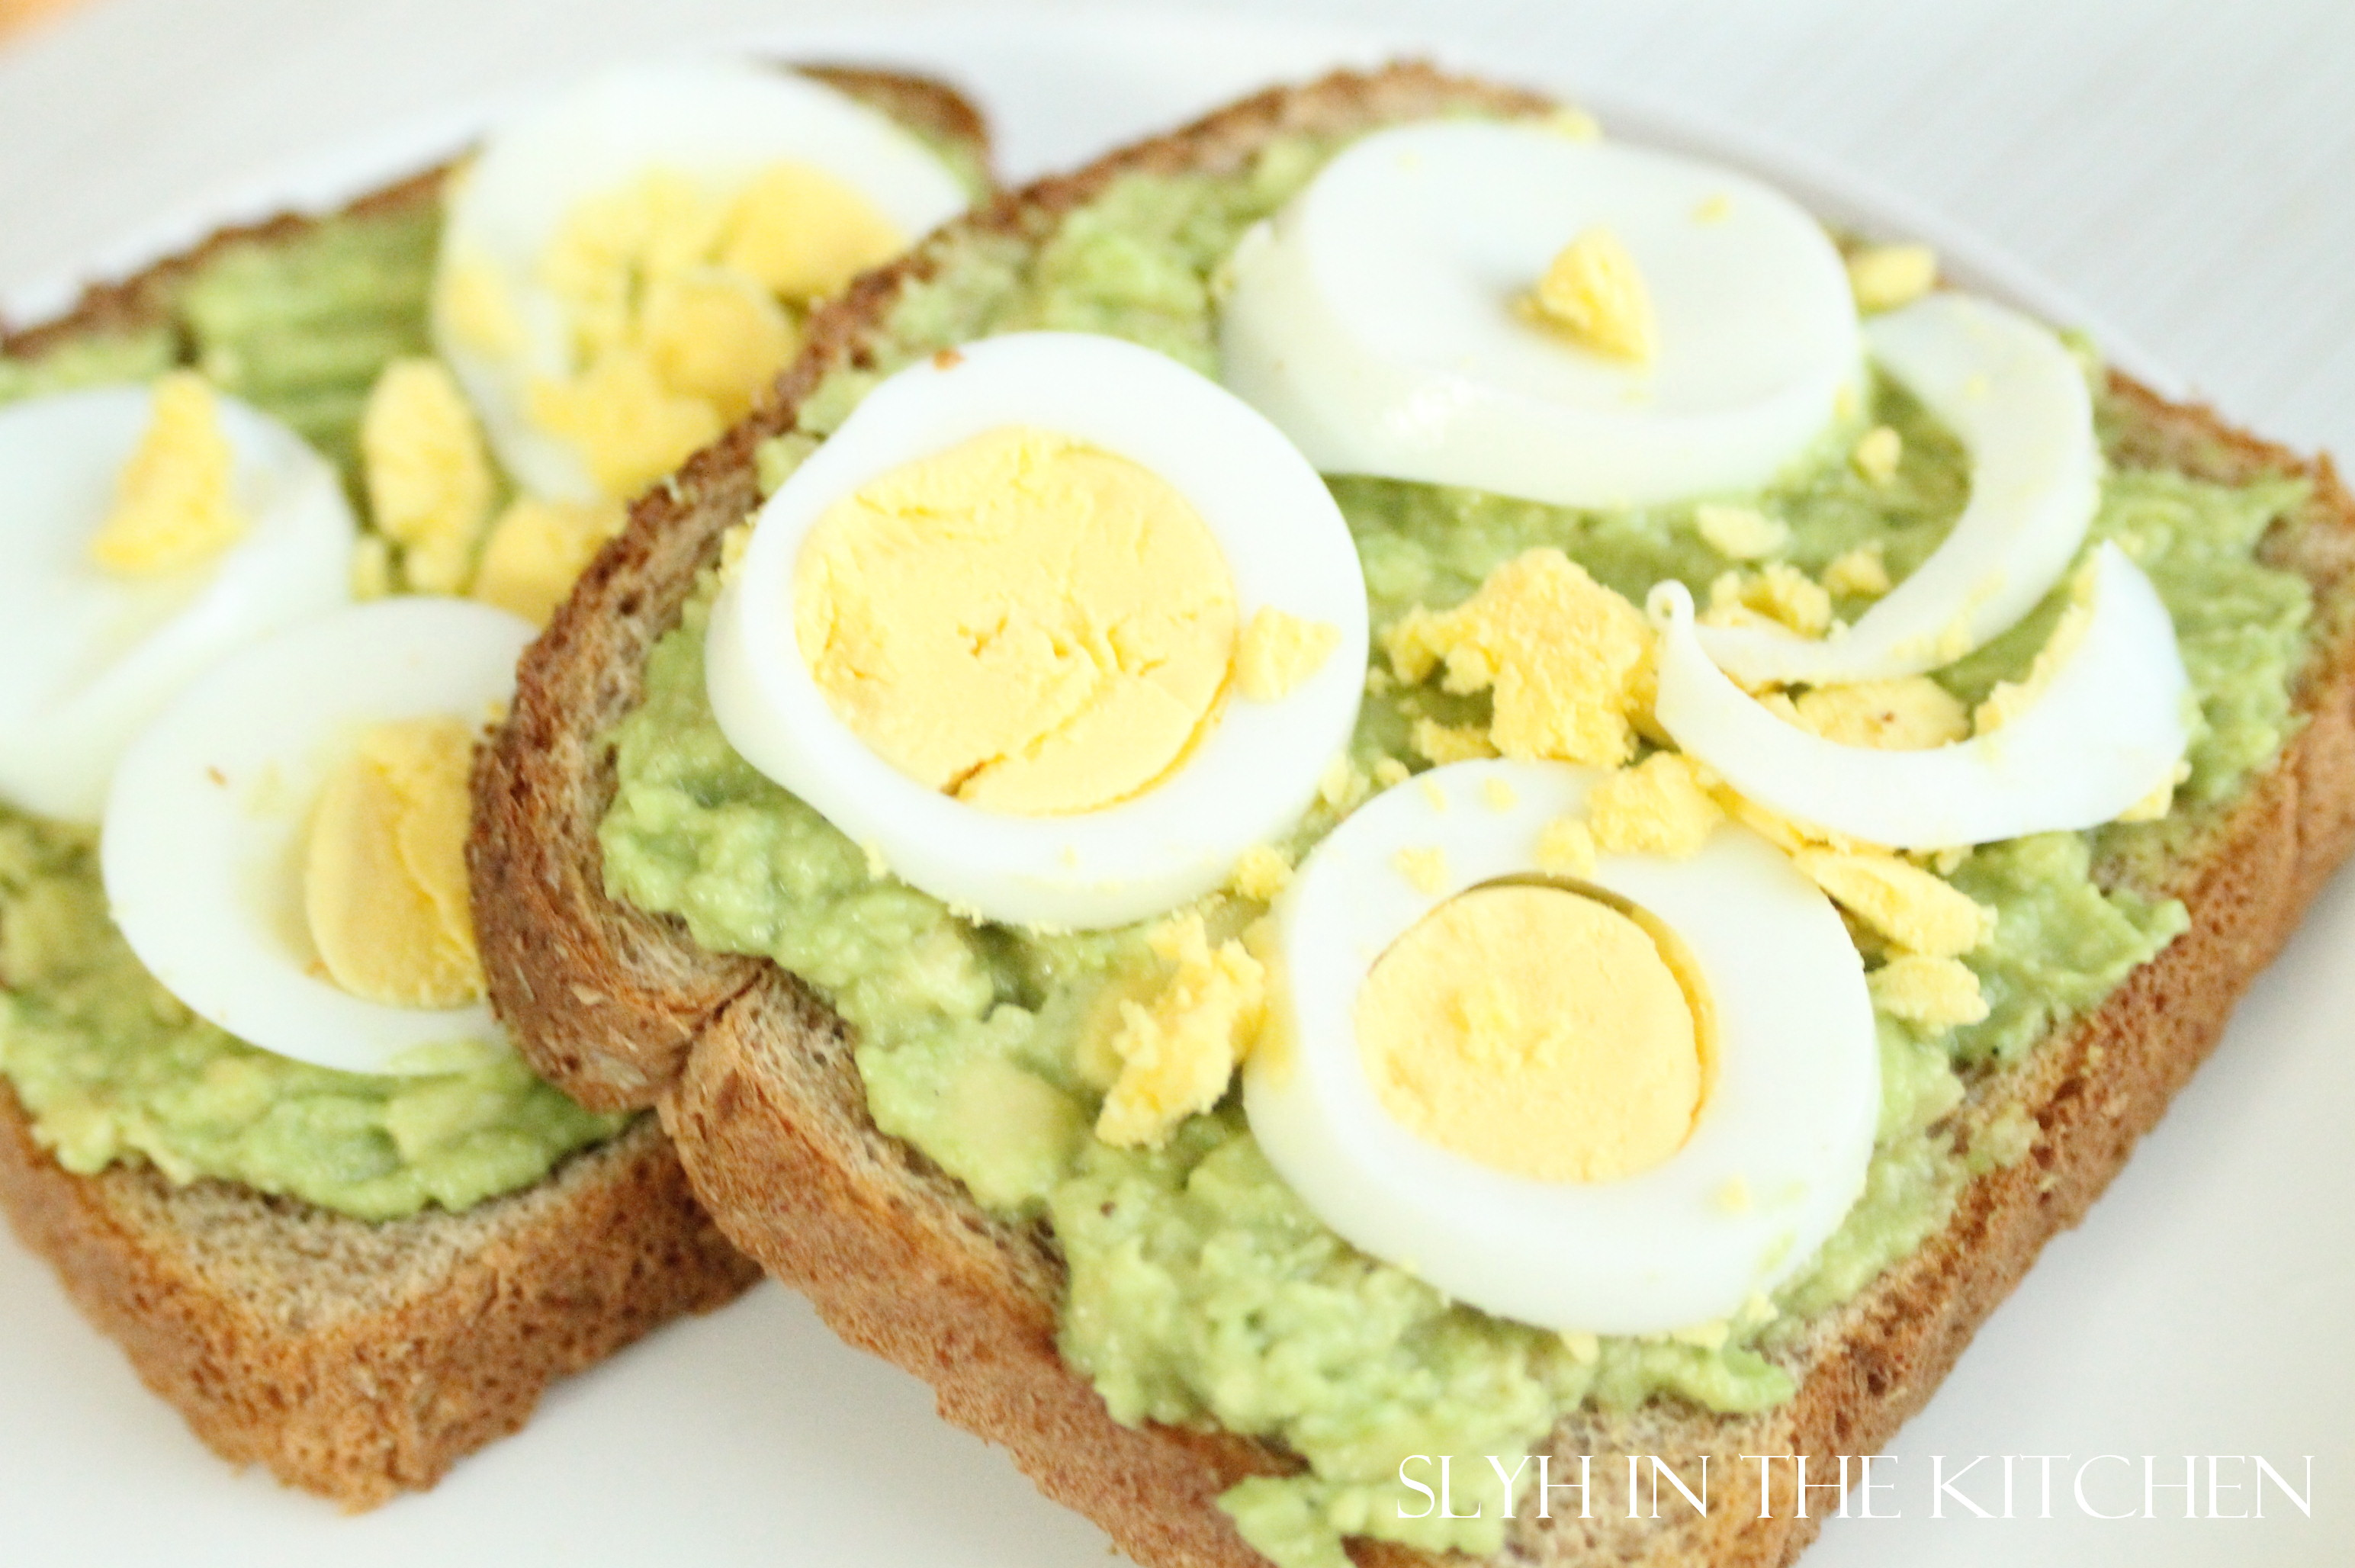slice of bread: (551, 63, 2350, 1568), (0, 0, 994, 1491)
